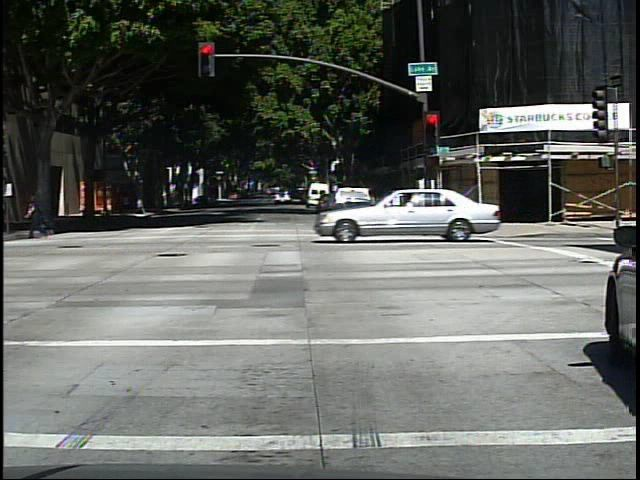person: (24, 189, 54, 242)
